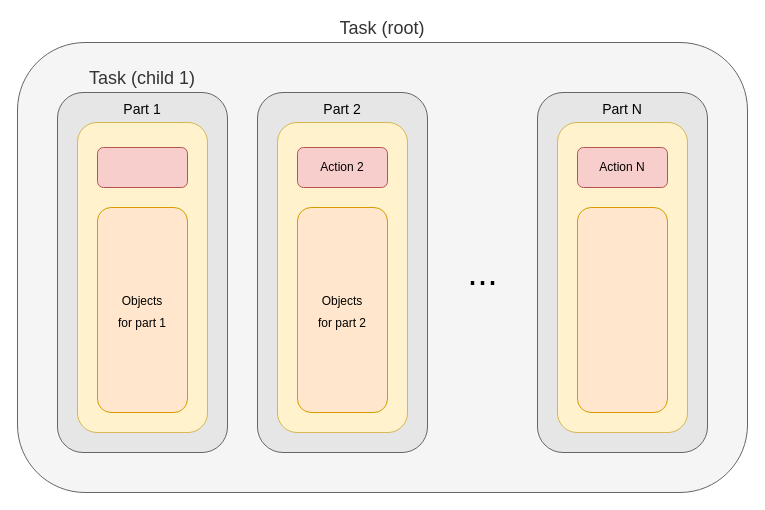
This 765x510 diagram has some shape labels left out. The shapes that lost their labels are listed below. From the top down, each one's box as (x1, y1, x2, y2) in pixels, then its label:
(96, 146, 188, 188): Action 1
(256, 92, 428, 452): Task (child 2)
(536, 92, 708, 452): Task (child N)
(576, 206, 668, 412): Objects for part N
